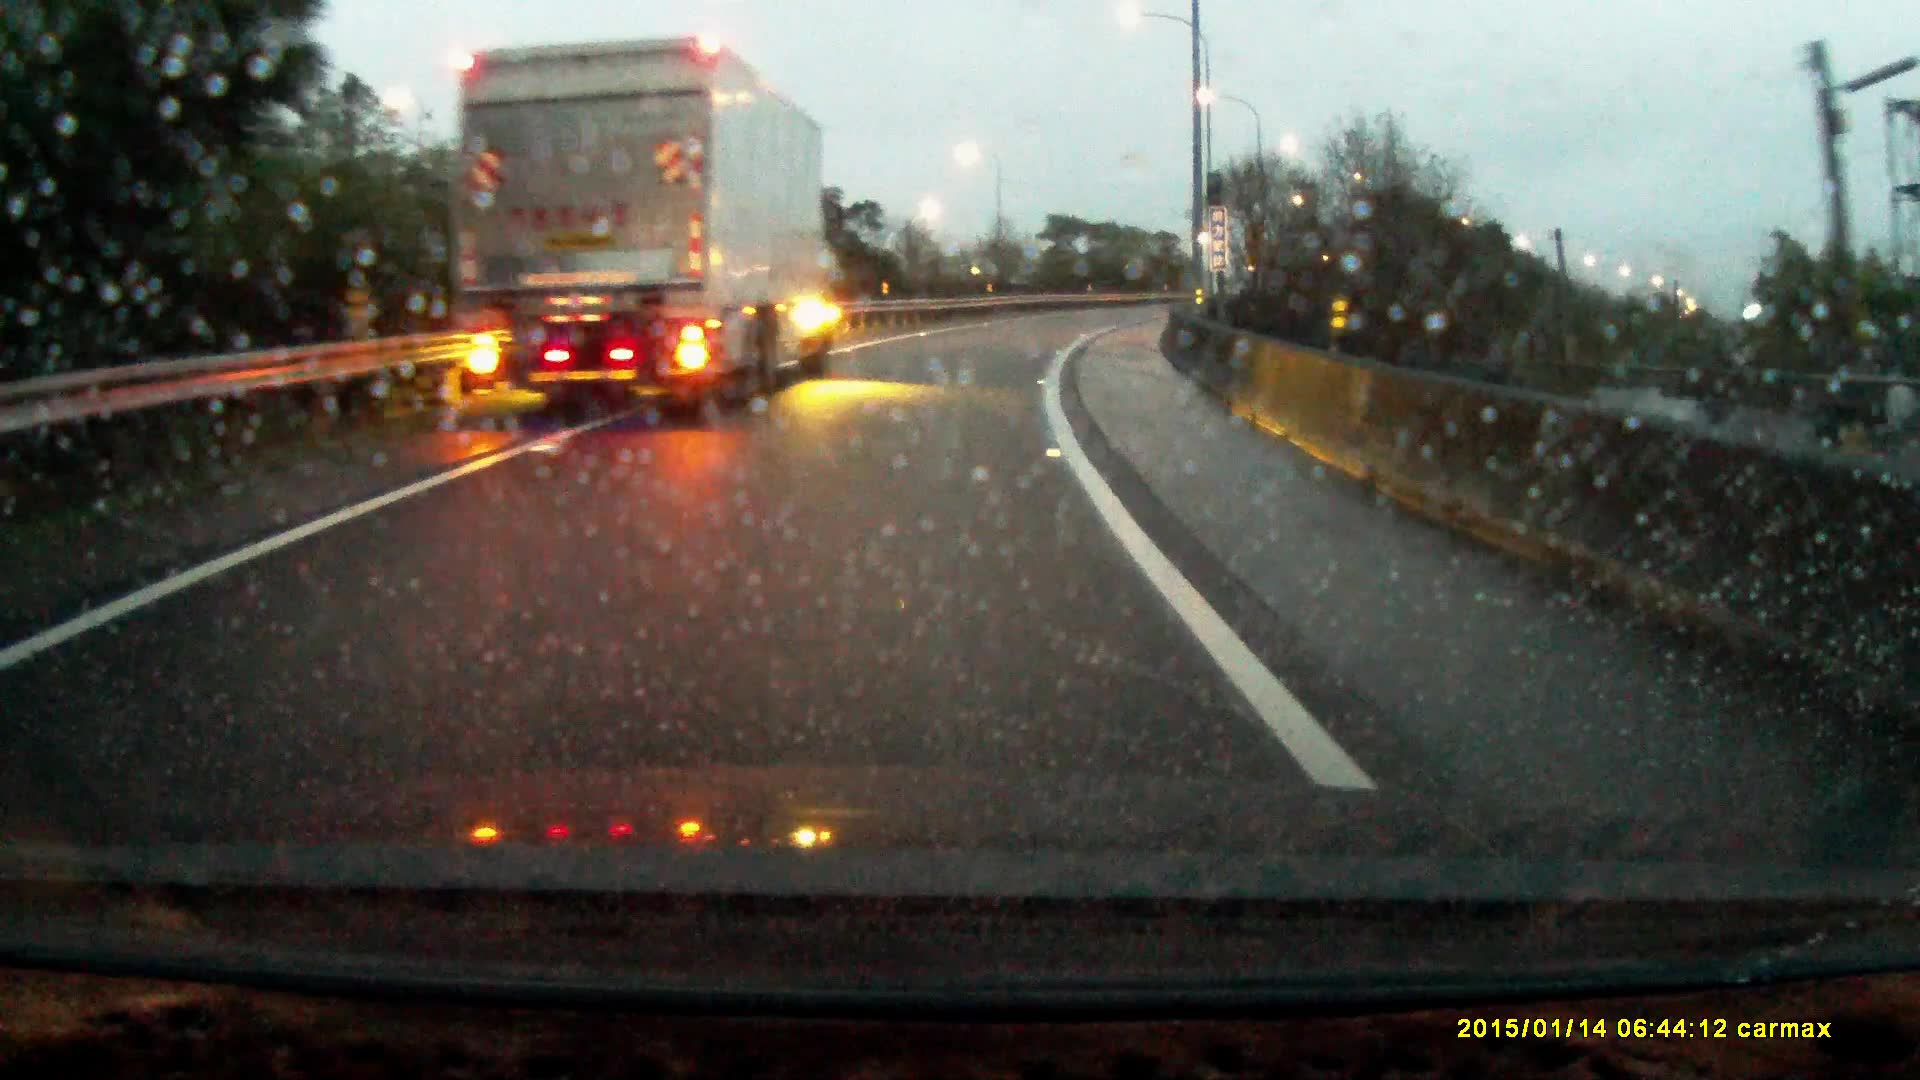vehicle: (447, 32, 837, 404)
